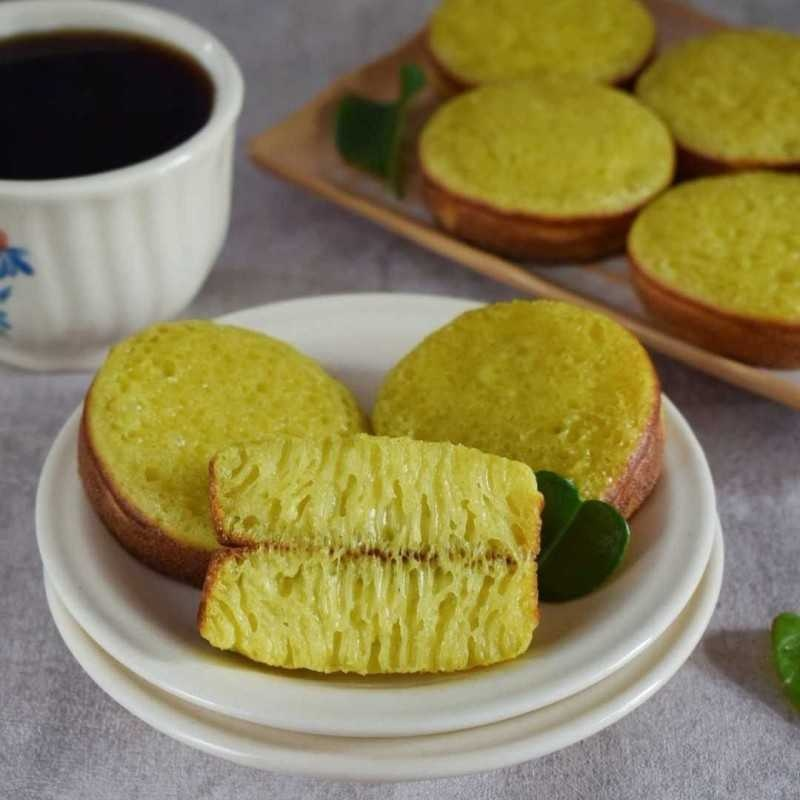bika_ambon: (183, 432, 561, 679)
